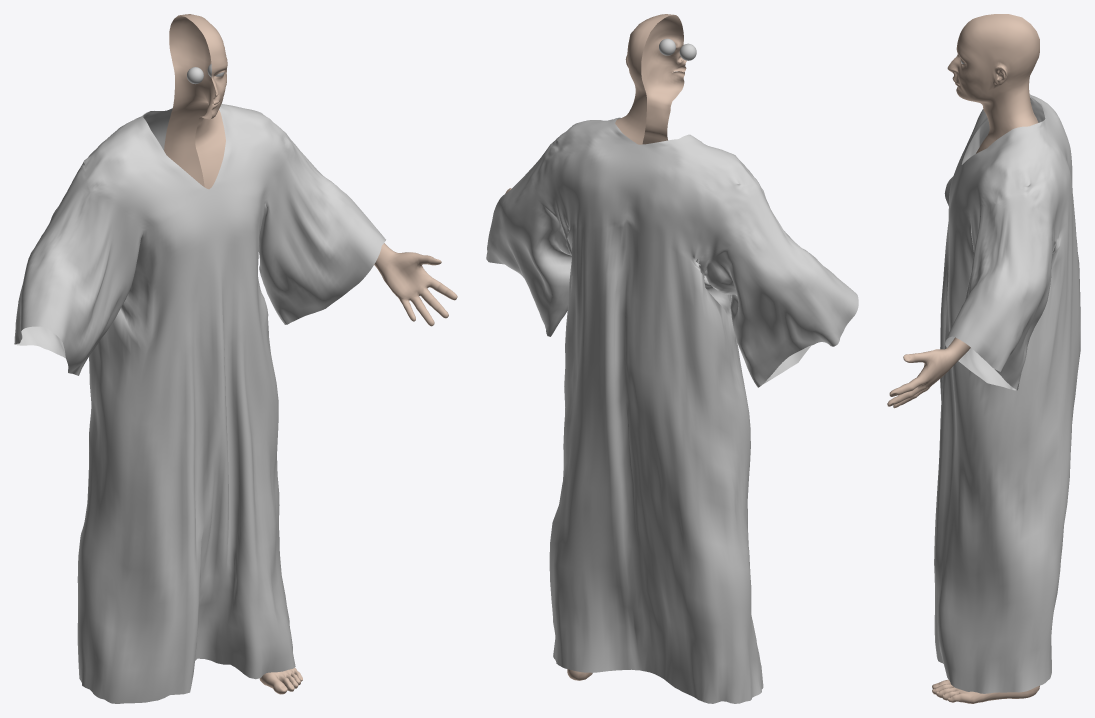
File: man.dae
3 renders of one model, left to right at view 1: azimuth 30°, elevation 25°; view 2: azimuth 150°, elevation 25°; view 3: azimuth 270°, elevation 25°, orthographic. The views are drawn at different scales.
Parts seen in each view (by area): view 1: Plane_001, jesus-base; view 2: Plane_001, jesus-base; view 3: Plane_001, jesus-base.
Boxes of the visible parts, <box> form: Plane_001: <box>14,104,385,703</box>; jesus-base: <box>164,14,457,694</box>; Plane_001: <box>486,117,858,703</box>; jesus-base: <box>505,14,686,680</box>; Plane_001: <box>934,94,1080,693</box>; jesus-base: <box>887,14,1039,703</box>.
Size of the model in its own units: 1.13 by 0.4923 by 1.82.
